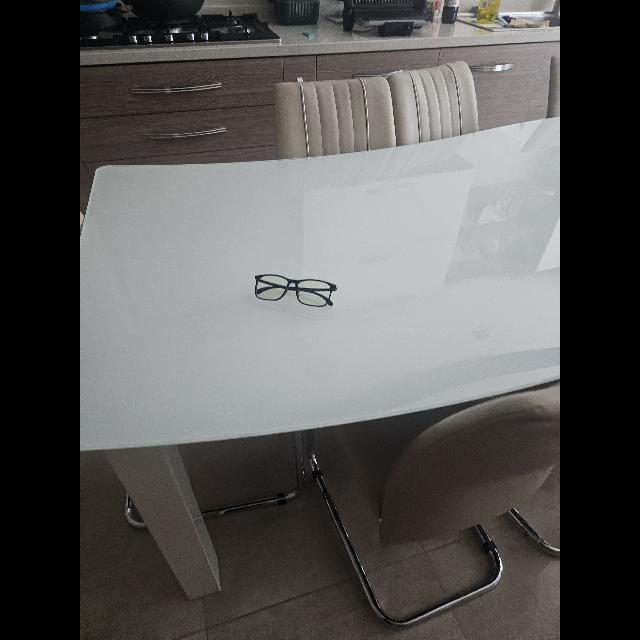glasses: (255, 274, 337, 308)
